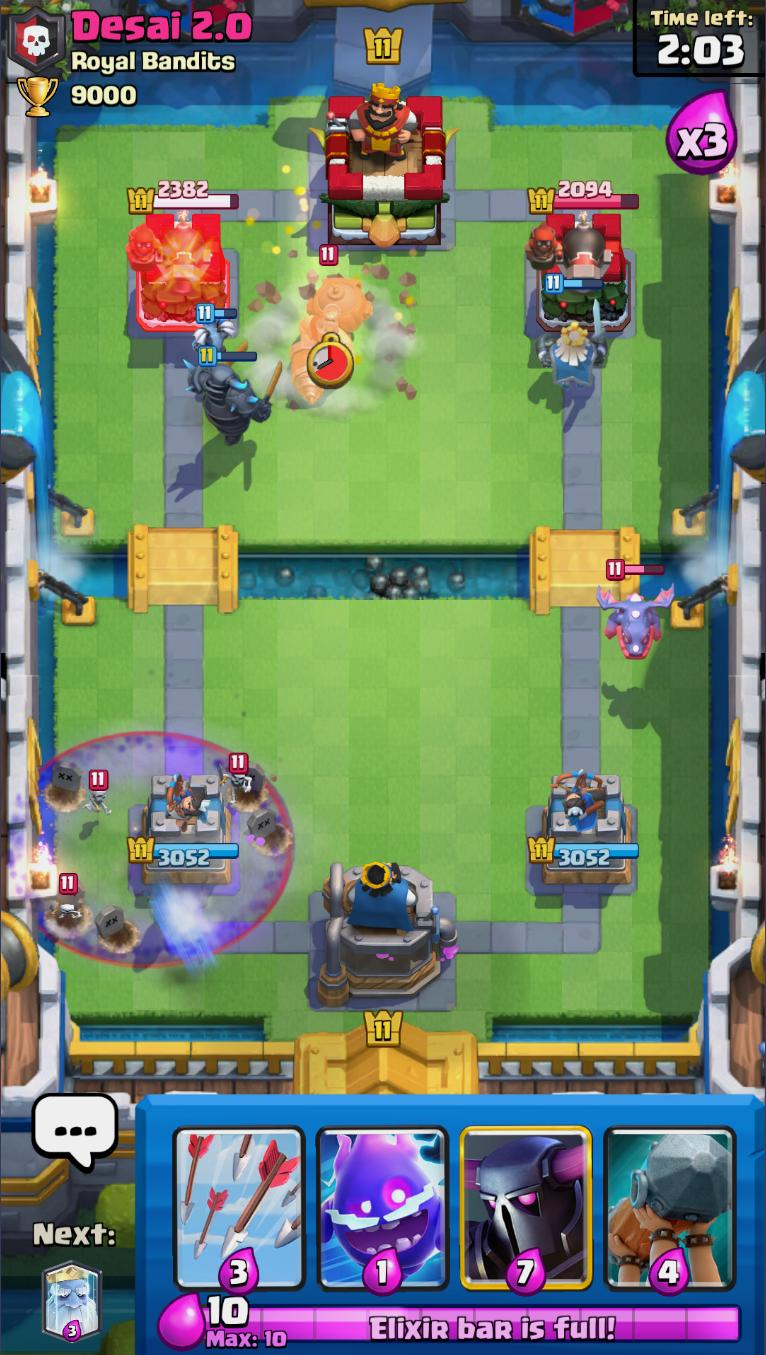ArrowDeck: (168, 1094, 311, 1295)
Cannoneer: (526, 212, 607, 298), (124, 214, 207, 297)
ElectroDragon: (596, 560, 676, 663)
ElectroSpiritDeck: (310, 1094, 456, 1295)
Elixir: (200, 1296, 745, 1350)
EnemyTower: (524, 209, 633, 333), (125, 207, 231, 332)
Graveyard: (18, 729, 291, 968)
KingTower: (310, 81, 461, 249)
MightyMiner: (288, 245, 374, 405)
MyBandit: (148, 881, 194, 938)
MyBattleRam: (600, 1095, 740, 1295)
MyKingTower: (314, 855, 460, 1007)
MyMinion: (190, 303, 239, 366)
MyPekka: (185, 346, 281, 445)
MyPrincessTower: (527, 770, 641, 886), (128, 773, 242, 888)
MyPrincessTowerHP: (127, 836, 240, 867), (527, 837, 640, 866)
MyRoyaleGhost: (534, 272, 610, 394)
PekkaDeck: (456, 1095, 601, 1295)
RoyaleGhostNext: (40, 1264, 105, 1341)
Skeleton: (51, 873, 90, 923), (82, 769, 112, 818), (221, 753, 251, 802)
TowerPrincessHP: (127, 178, 240, 212), (529, 179, 641, 211)
